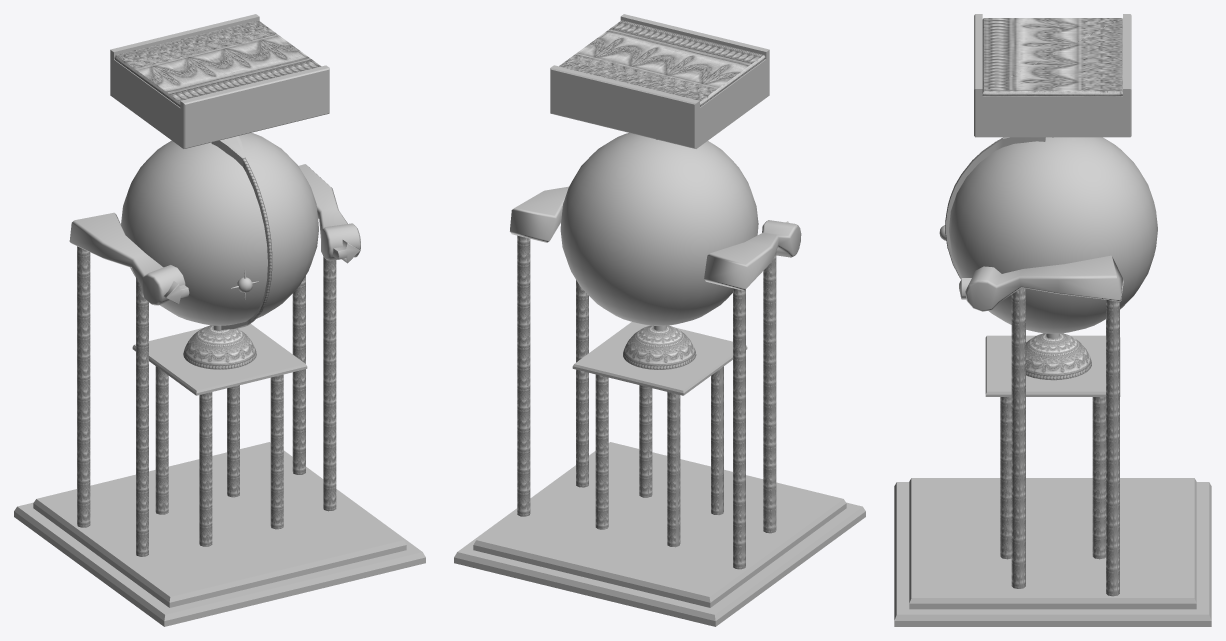
The model's file is Globe_World_Big.fbx.
3 renders of one model, left to right at view 1: azimuth 30°, elevation 25°; view 2: azimuth 150°, elevation 25°; view 3: azimuth 270°, elevation 25°, orthographic. The views are drawn at different scales.
Parts seen in each view (by area): view 1: Stucture, Globe, Anta; view 2: Stucture, Globe, Anta; view 3: Stucture, Globe, Anta.
Part boxes in pixels (box(x1,y1,x2,y2)): Stucture: box(14, 14, 425, 626); Globe: box(121, 132, 318, 325); Anta: box(114, 20, 321, 107); Stucture: box(454, 14, 865, 626); Globe: box(560, 133, 758, 325); Anta: box(559, 20, 765, 106); Stucture: box(894, 14, 1211, 626); Globe: box(949, 137, 1157, 333); Anta: box(982, 18, 1122, 96).
Size of the model in its own units: 169 by 297 by 168.
